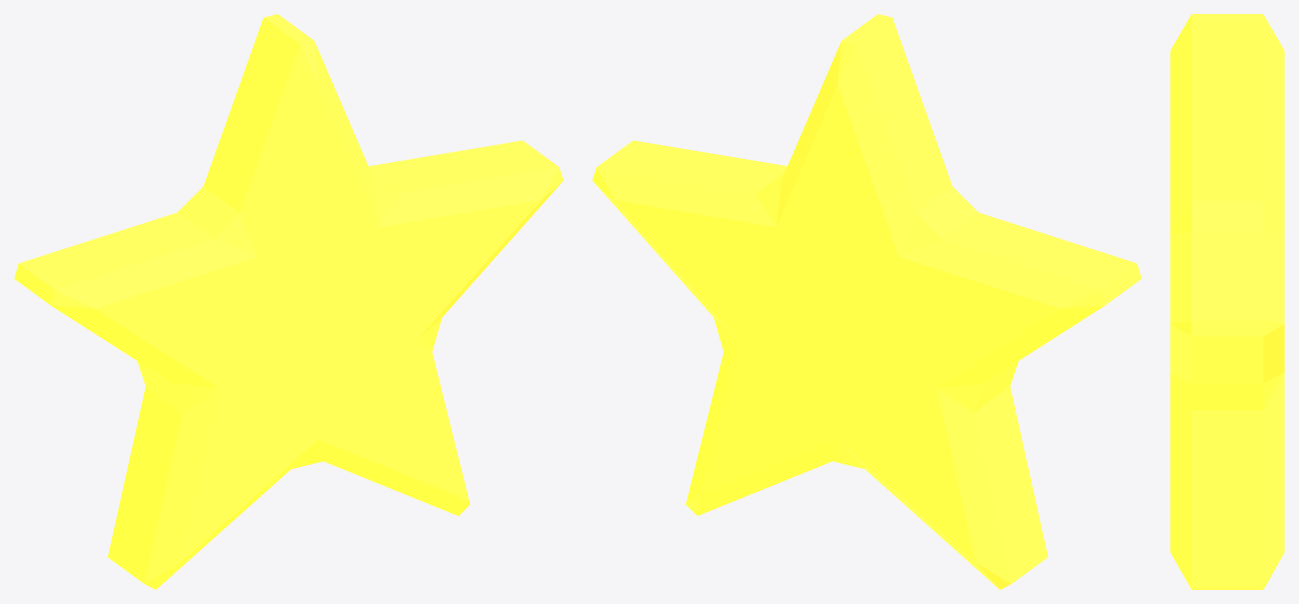
File: star.glb
The picture shows the model from 3 angles, left to right: view 1: azimuth 30°, elevation 25°; view 2: azimuth 150°, elevation 25°; view 3: azimuth 270°, elevation 25°; orthographic projection. The views are drawn at different scales.
Parts seen in each view (by area): view 1: star; view 2: star; view 3: star.
Boxes of the visible parts, box(x1,y1,x2,y2) form: star: box(14, 14, 563, 589); star: box(592, 14, 1141, 589); star: box(1170, 14, 1284, 589).
Bounding box in the file's own units: 0.8101 × 0.7705 × 0.16.
